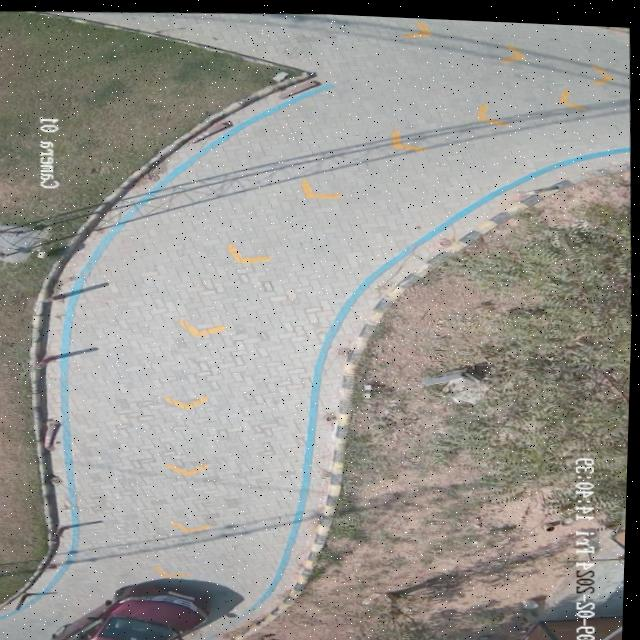car: (53, 584, 211, 640)
